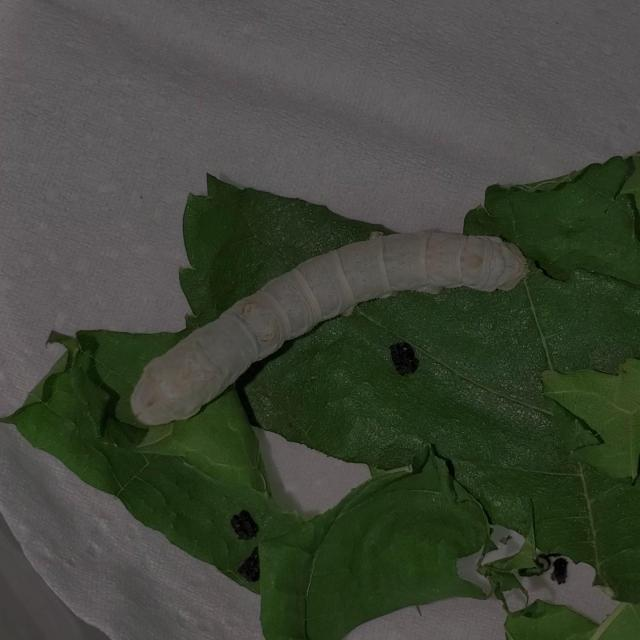Healthy: (114, 209, 545, 438)
